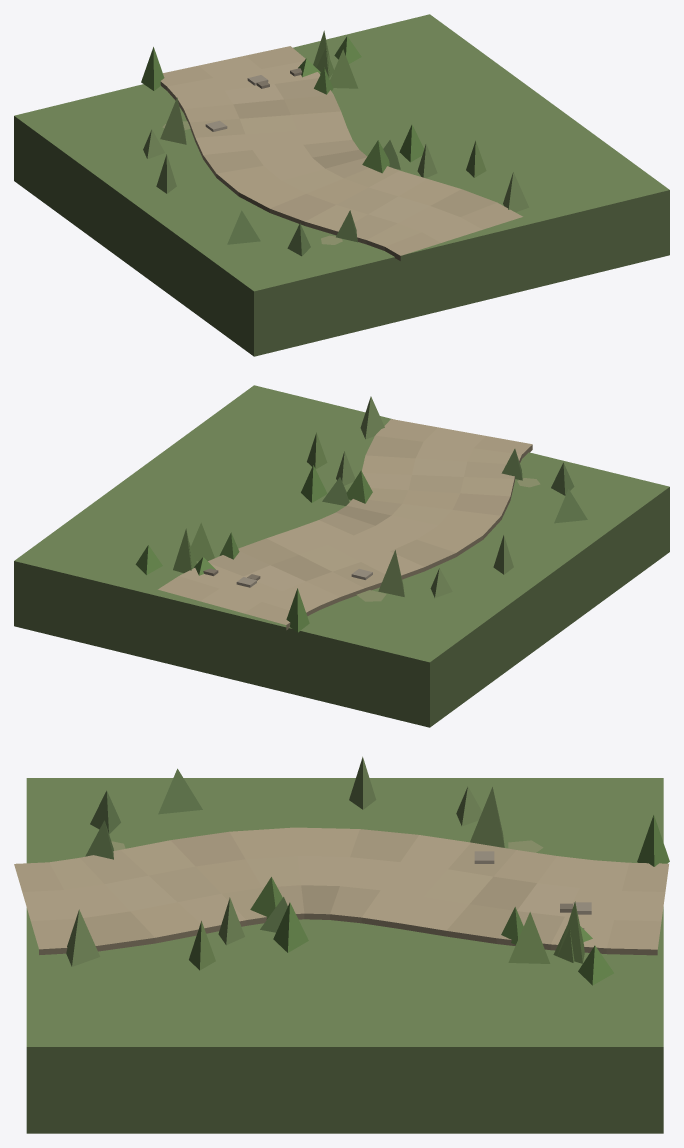
File: t_footpath_2.glb
3 renders of one model, top to bottom at view 1: azimuth 30°, elevation 25°; view 2: azimuth 150°, elevation 25°; view 3: azimuth 270°, elevation 25°, orthographic. The views are drawn at different scales.
Parts seen in each view (by area): view 1: t_footpath_2; view 2: t_footpath_2; view 3: t_footpath_2.
Boxes of the visible parts, x1=… form: t_footpath_2: x1=14, y1=14, x2=669, y2=356; t_footpath_2: x1=14, y1=385, x2=669, y2=727; t_footpath_2: x1=14, y1=756, x2=669, y2=1133.
Size of the model in its own units: 2 by 0.4949 by 2.06.
